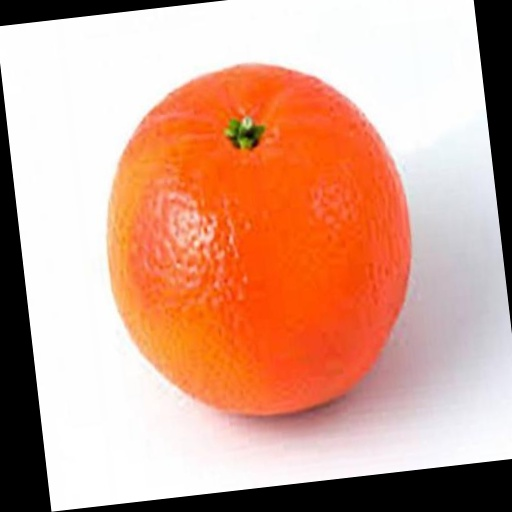fruit: (108, 65, 410, 414)
